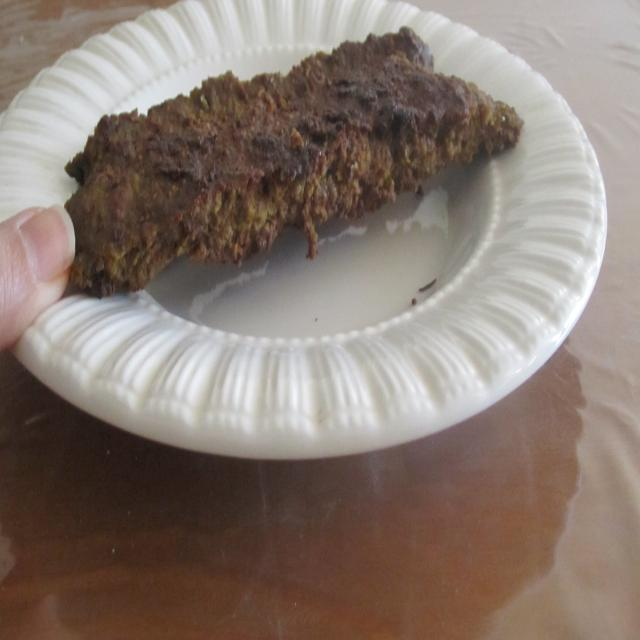cutlet: (64, 20, 541, 307)
